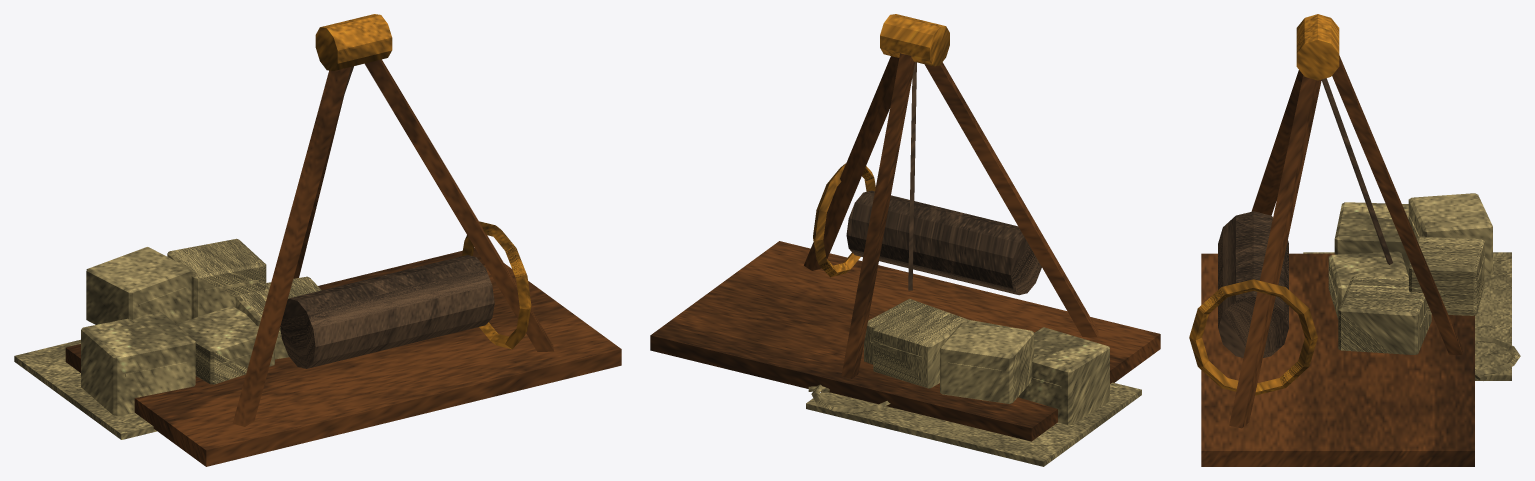
File: ice-quarry-hoist.glb
3 renders of one model, left to right at view 1: azimuth 30°, elevation 25°; view 2: azimuth 150°, elevation 25°; view 3: azimuth 270°, elevation 25°, orthographic. The views are drawn at different scales.
Parts seen in each view (by area): view 1: ice-quarry-hoist; view 2: ice-quarry-hoist; view 3: ice-quarry-hoist.
Boxes of the visible parts, left/top/right/bottom form: ice-quarry-hoist: left=14, top=14, right=621, bottom=466; ice-quarry-hoist: left=650, top=14, right=1160, bottom=466; ice-quarry-hoist: left=1189, top=14, right=1520, bottom=466.
Bounding box in the file's own units: 6.25 × 4.73 × 4.12.
1 material, 1 textured.
